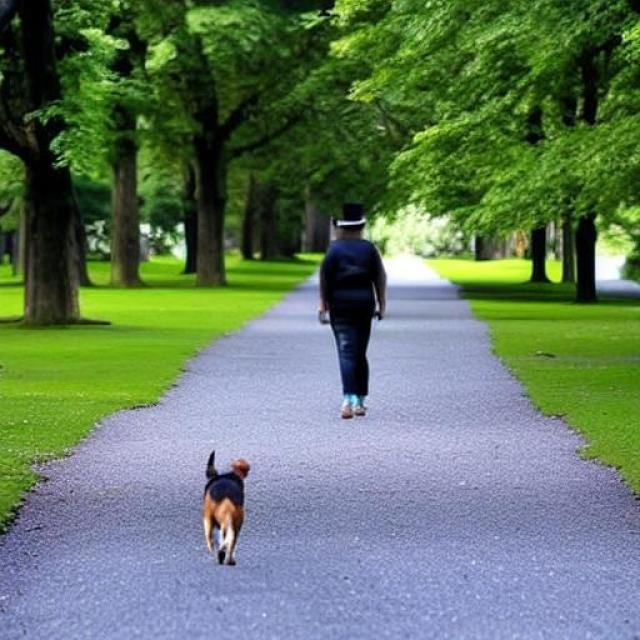Unleashed_Dog: (204, 307, 384, 567)
